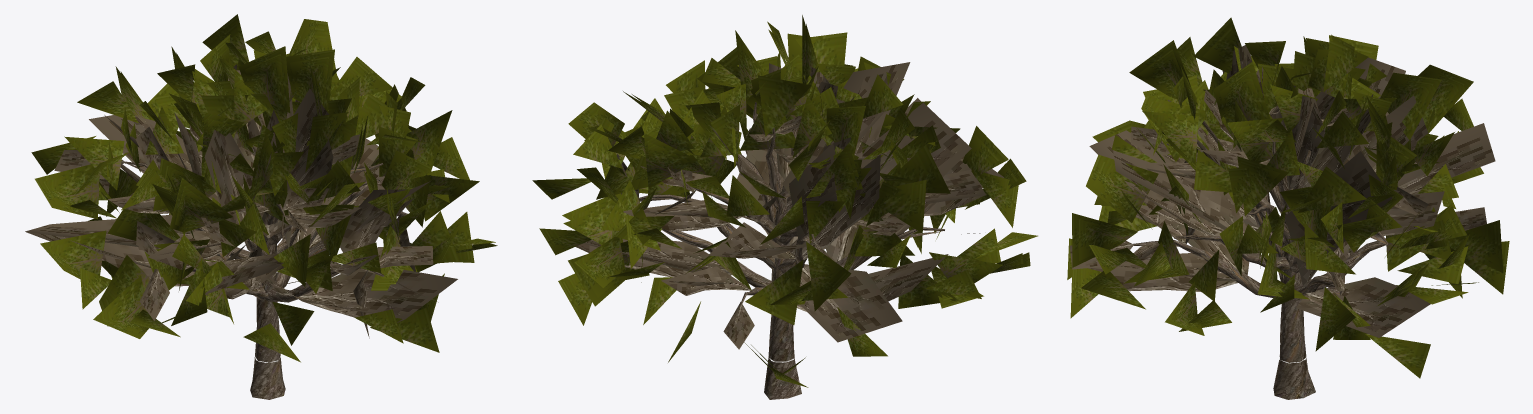
File: anim-tree-wide.glb
3 views of the same model, side by side, from view 1: azimuth 30°, elevation 25°; view 2: azimuth 150°, elevation 25°; view 3: azimuth 270°, elevation 25° (orthographic).
Visible parts, largest first — view 1: high, low; view 2: high, low; view 3: high, low.
Part boxes in pixels (<box>): high: <box>25,23,497,399</box>; low: <box>25,14,479,399</box>; high: <box>544,24,1032,399</box>; low: <box>532,15,1037,399</box>; high: <box>1067,27,1501,399</box>; low: <box>1069,17,1509,399</box>.
Bounding box in the file's own units: 4.21 × 3.37 × 3.77.
Materials: 4 (3 with a texture image).
